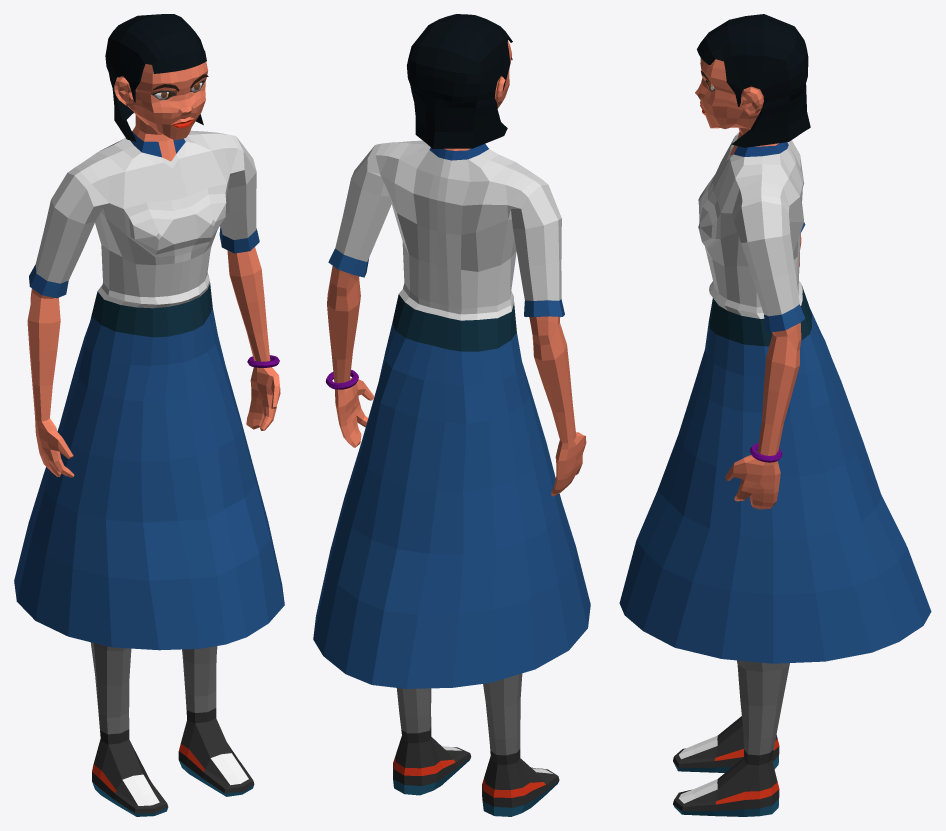
Rendered from StudentFemale_Stand.fbx.
The picture shows the model from 3 angles, left to right: view 1: azimuth 30°, elevation 25°; view 2: azimuth 150°, elevation 25°; view 3: azimuth 270°, elevation 25°; orthographic projection. The views are drawn at different scales.
Parts seen in each view (by area): view 1: StudentFemale_Stand; view 2: StudentFemale_Stand; view 3: StudentFemale_Stand.
Part boxes in pixels (<box>): StudentFemale_Stand: <box>14,14,284,816</box>; StudentFemale_Stand: <box>313,14,590,816</box>; StudentFemale_Stand: <box>619,14,931,816</box>.
Size of the model in its own units: 0.2686 by 0.8062 by 0.2977.
